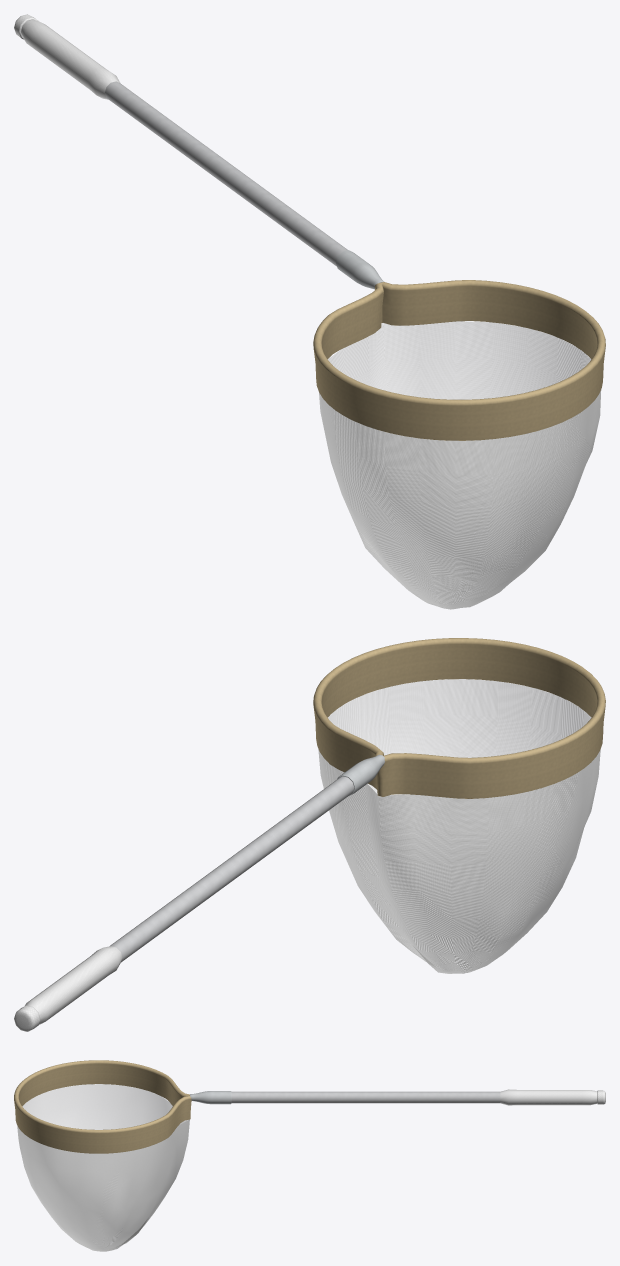
File: net_fine.lod2.glb
3 views of the same model, one above another, from view 1: azimuth 30°, elevation 25°; view 2: azimuth 150°, elevation 25°; view 3: azimuth 270°, elevation 25° (orthographic). The views are drawn at different scales.
Visible parts, largest first — view 1: Bag, Frame, Handle; view 2: Bag, Frame, Handle; view 3: Bag, Frame, Handle.
Part boxes in pixels (x1,y1,x2,y2): Bag: (319,321,601,609); Frame: (313,250,605,440); Handle: (14,14,347,266); Bag: (318,679,600,973); Frame: (313,638,605,798); Handle: (14,776,354,1031); Bag: (17,1084,189,1251); Frame: (14,1060,231,1153); Handle: (231,1089,605,1105).
Size of the model in its own units: 0.2576 by 0.2671 by 0.8973.
5 materials, 5 textured.
